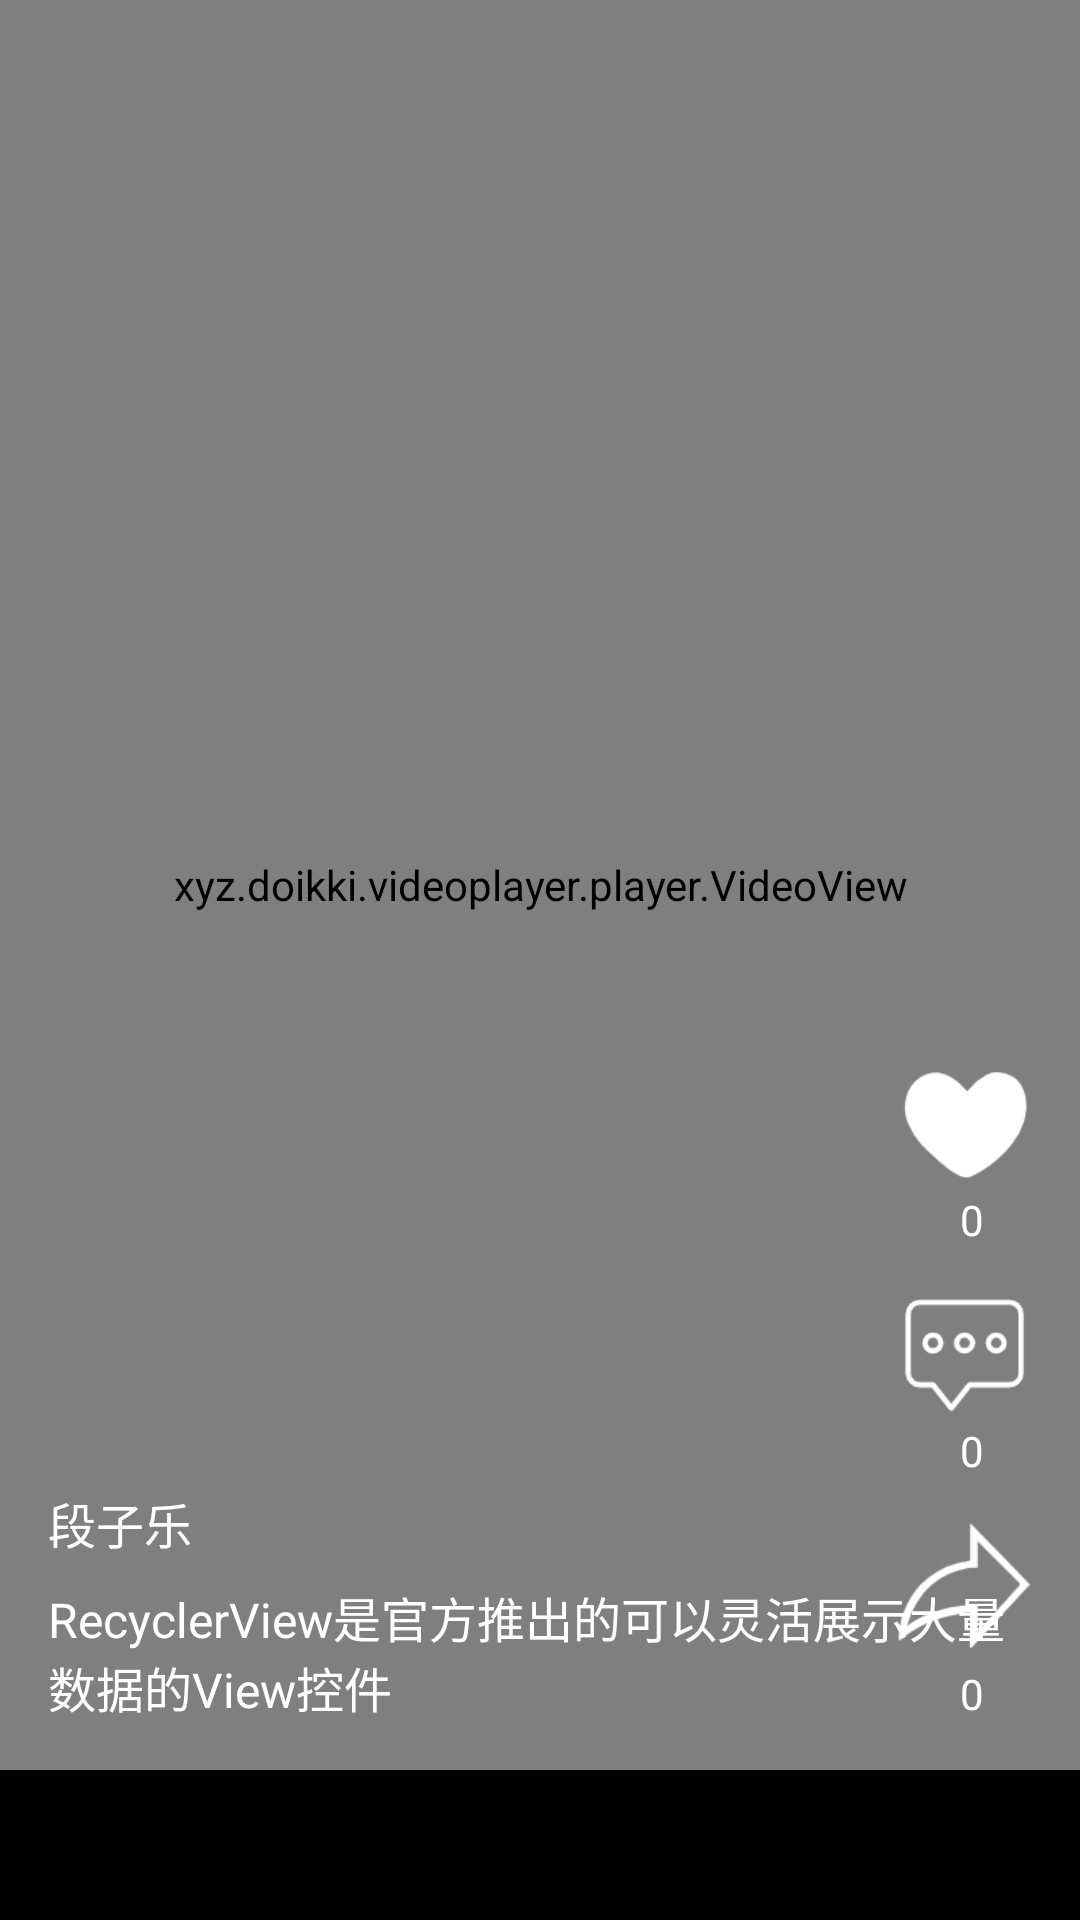

Where to tap for icons on this 1080 × 1920 app screen, as [x,y]:
brush video comment: [964,1355]
brush video like: [965,1125]
